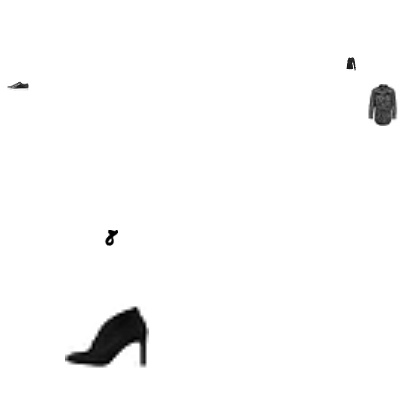8: (100, 226, 122, 248)
Ankle_boot: (65, 292, 149, 376)
Shirt: (361, 84, 403, 126), (344, 57, 358, 71)
Sneaker: (7, 75, 29, 97)
